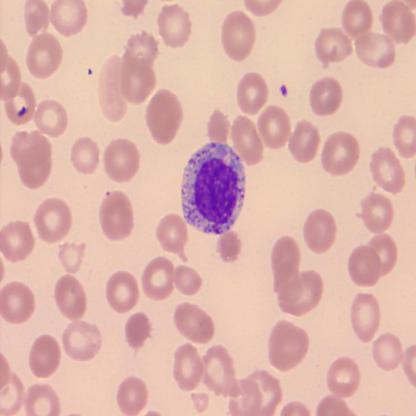Myelocyte: (182, 141, 244, 233)
